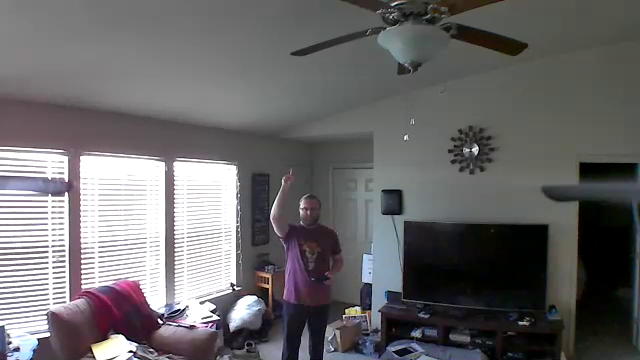up: (279, 164, 296, 190)
